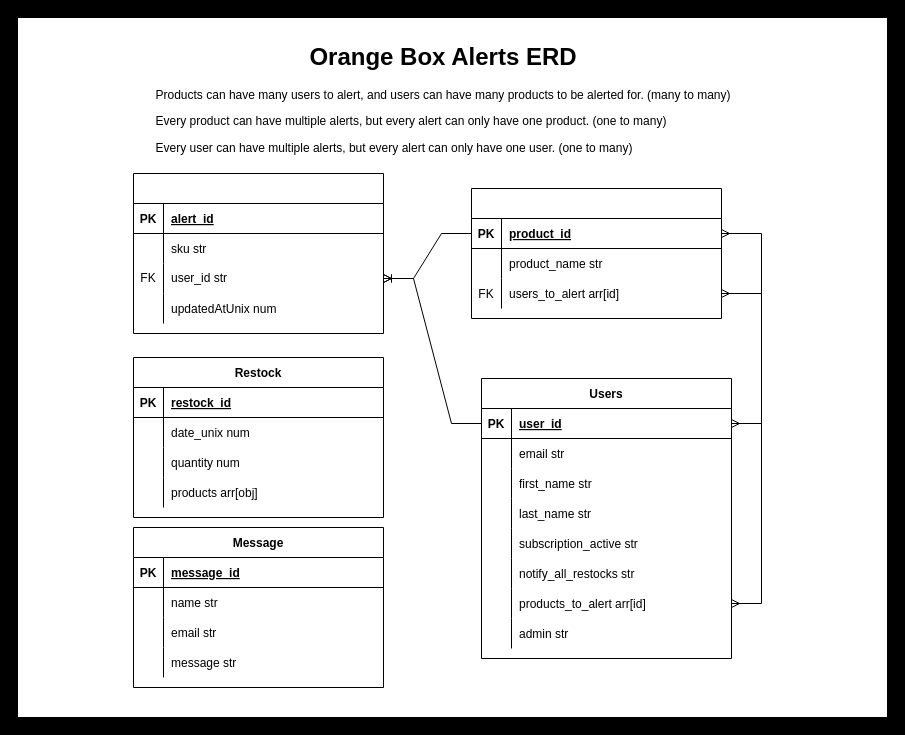
Image size: 905x735. Some labels were removed from this diagram. Here are the shapes that lost their labels. From the top down, the box of each, then its label:
(132, 172, 384, 334): Alerts
(470, 188, 722, 318): Products to Alert
